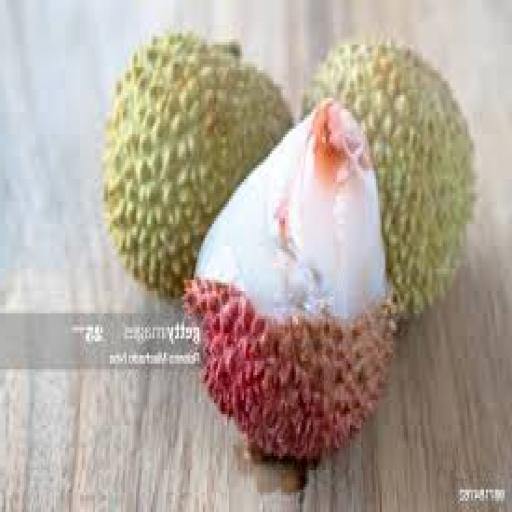lychee: (188, 104, 398, 462), (302, 34, 476, 338), (101, 34, 294, 308)
